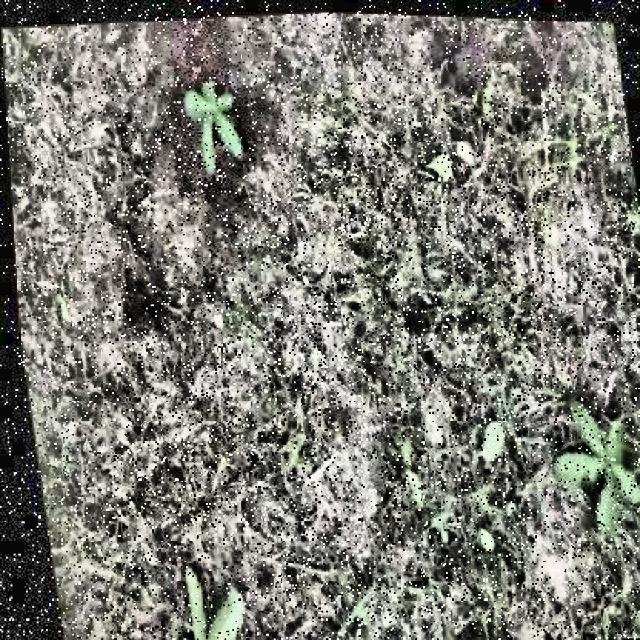Weeds: (534, 385, 640, 541), (164, 69, 250, 176), (151, 558, 247, 640)
